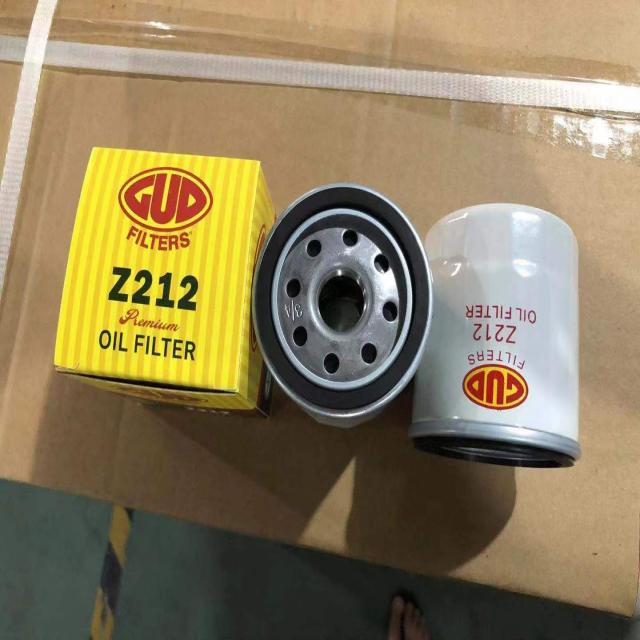oil_filter: (428, 202, 580, 482), (252, 189, 428, 423)
